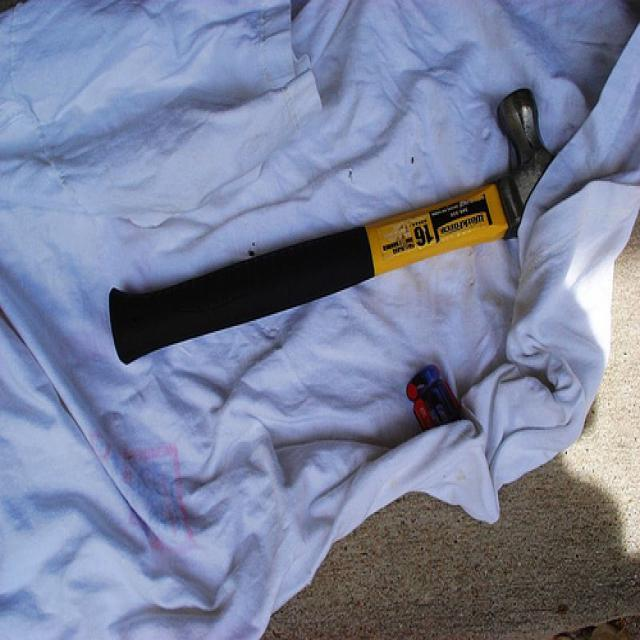hammer: (97, 72, 576, 373)
